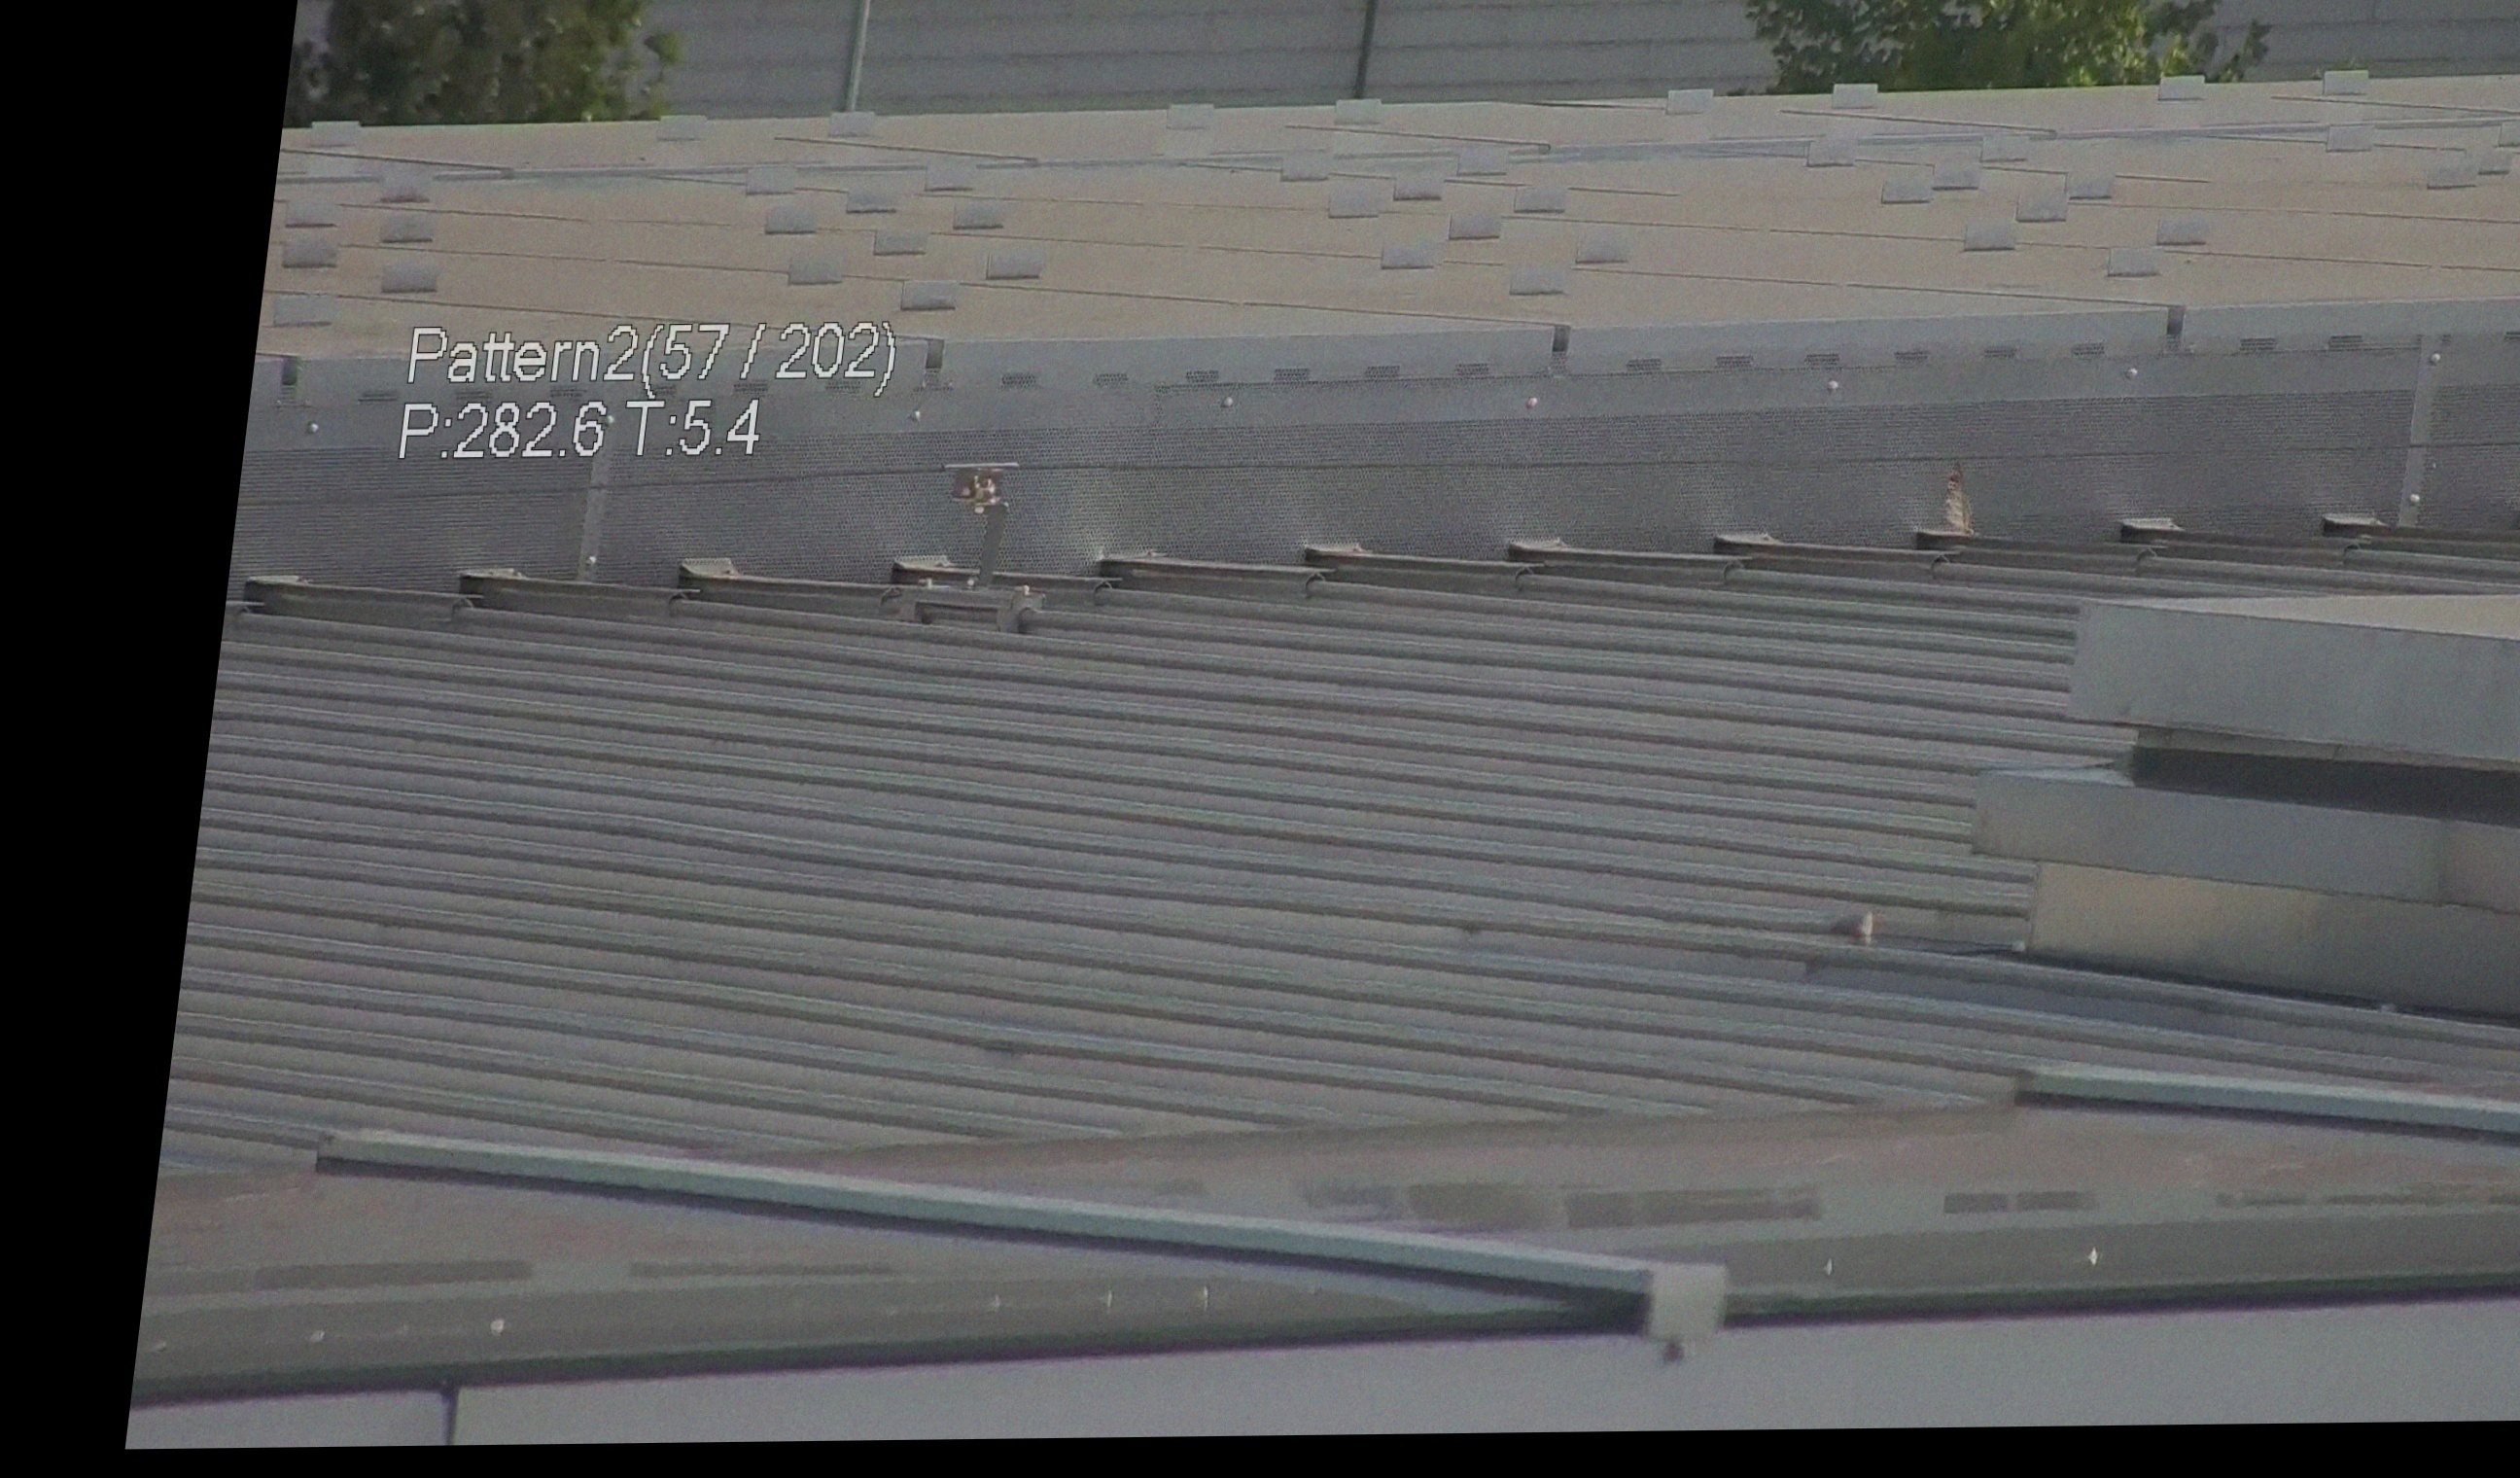Other: (1915, 443, 1999, 551)
